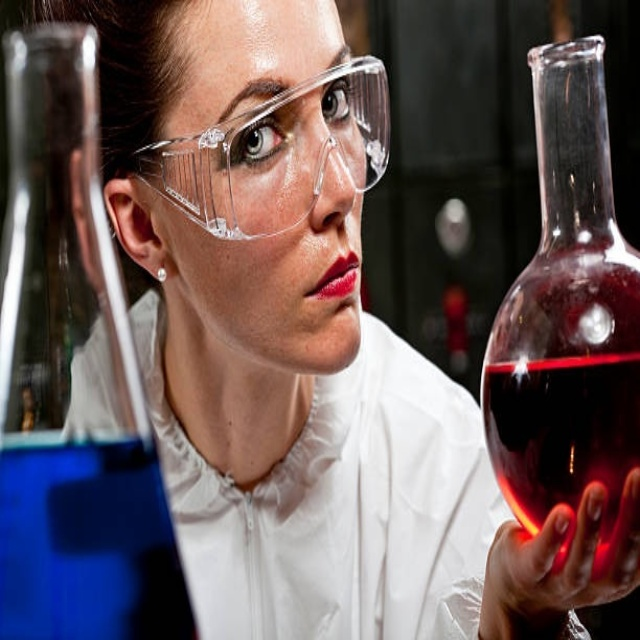Gafas: (124, 56, 391, 242)
Sin_guantes: (478, 460, 636, 635)
Sin_mascara: (291, 248, 365, 361)
